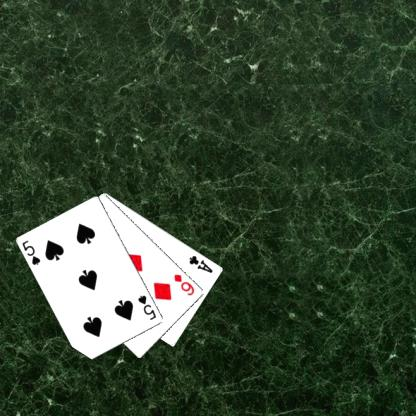5S: (135, 292, 158, 321), (20, 238, 42, 267)
6D: (171, 271, 196, 297)
AC: (186, 253, 214, 274)
